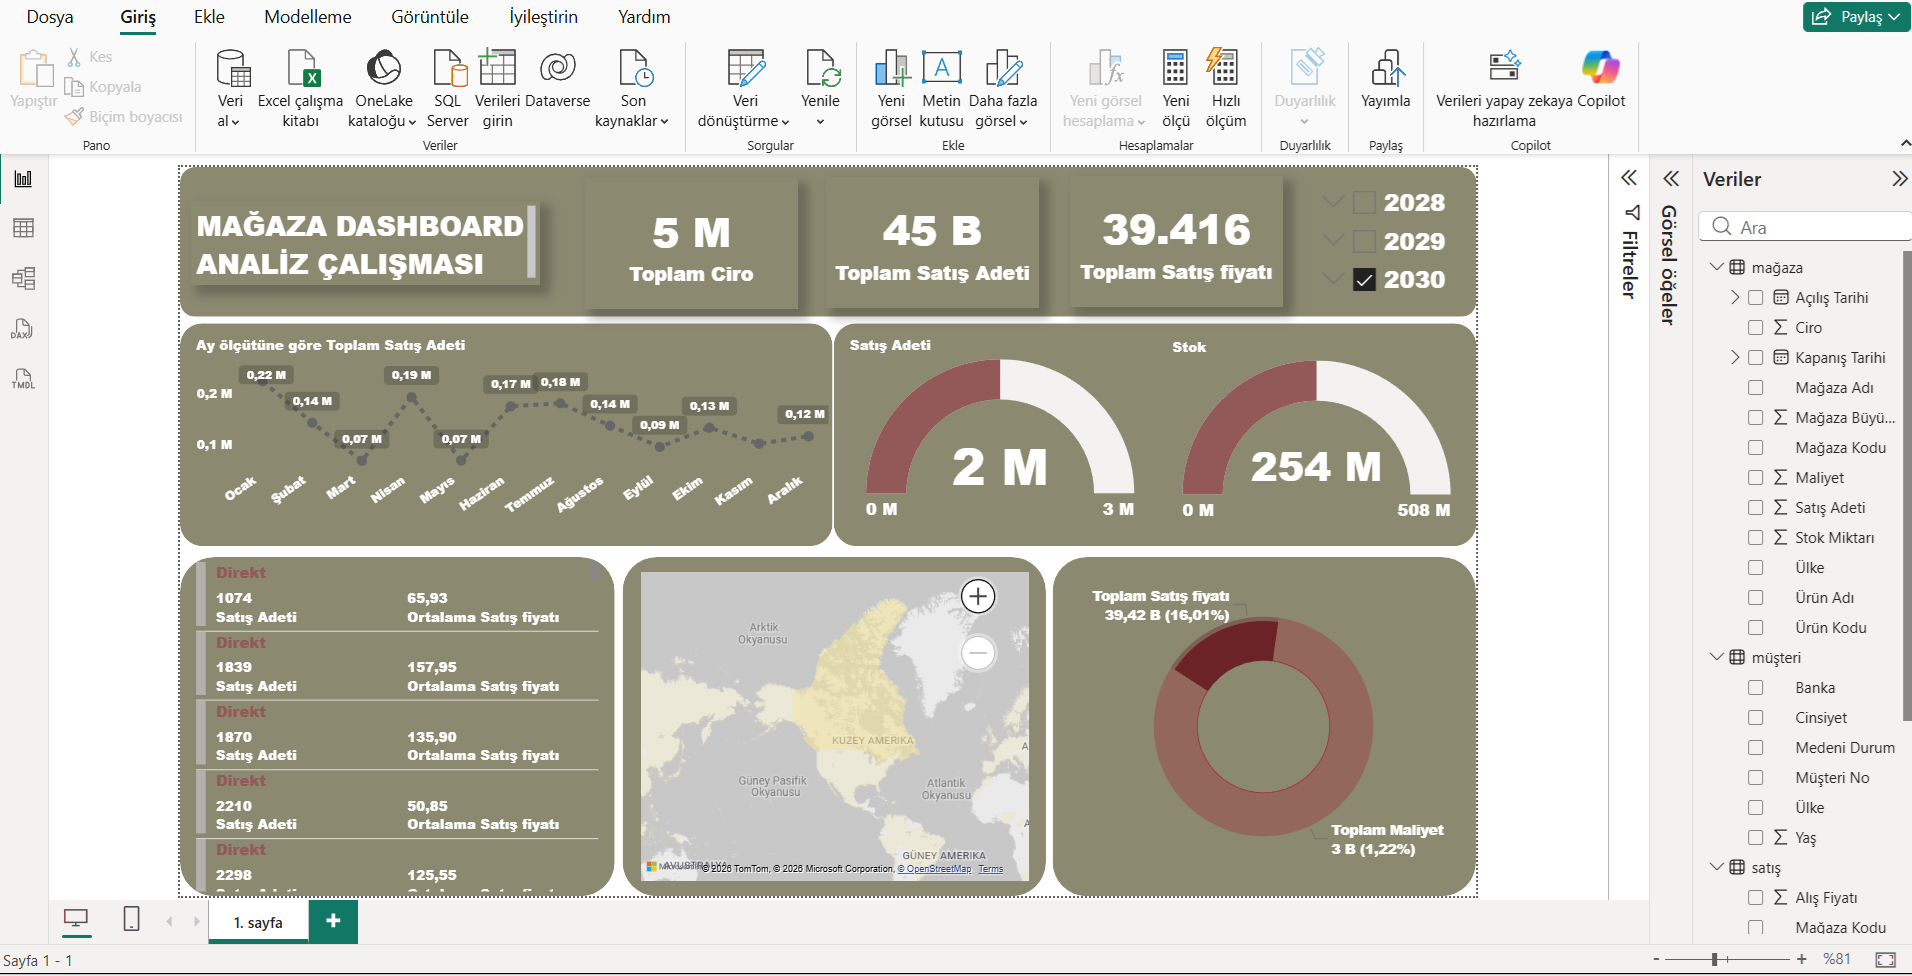

This screenshot's page, from the dashboard's own definition file:
{"tool":"powerbi","page":{"name":"1. sayfa","canvas":[1280,720],"ordinal":0},"visuals":[{"type":"shape","box":[0,0,1280.3,148],"z":0},{"type":"shape","box":[0,154.1,644.4,220.1],"z":1000},{"type":"shape","box":[645.7,154.1,634.7,220.1],"z":2000},{"type":"shape","box":[0,385.2,418.2,335.1],"z":3000},{"type":"shape","box":[862.1,385.2,418.2,335.1],"z":4000},{"type":"shape","box":[11,385.2,418.2,335.1],"z":5000},{"type":"shape","box":[436.6,385.2,418.2,335.1],"z":6000},{"type":"textbox","box":[11,33,344.8,83.2],"z":7000},{"type":"card","fields":{"Values":["Sum(mağaza.Ciro)"]},"box":[399.9,11,210.3,129.6],"z":8000},{"type":"card","fields":{"Values":["Sum(mağaza.Satış Adeti)"]},"box":[638.3,9.8,210.3,129.6],"z":9000},{"type":"card","fields":{"Values":["Sum(satış.Satış fiyatı)"]},"box":[879.2,8.6,210.3,129.6],"z":10000},{"type":"slicer","fields":{"Values":["satış.Sipariş Tarihi.Varyasyon.Tarih Hiyerarşisi.Yıl","satış.Sipariş Tarihi.Varyasyon.Tarih Hiyerarşisi.Çeyrek"]},"box":[1115.2,11,155.3,127.2],"z":11000},{"type":"lineChart","fields":{"Category":["satış.Sipariş Tarihi.Varyasyon.Tarih Hiyerarşisi.Ay"],"Y":["Sum(satış.Satış Adeti)"]},"box":[11,166.3,634.7,193.2],"z":12000},{"type":"gauge","title":"Satış Adeti","fields":{"Y":["Sum(satış.Satış Adeti)"]},"box":[656.7,166.3,306.9,193.2],"z":13000},{"type":"gauge","title":"Stok","fields":{"Y":["Sum(ürünler.Stok)"]},"box":[975.8,167.5,294.7,193.2],"z":14000},{"type":"multiRowCard","fields":{"Values":["satış.Satış Kanalı","satış.Satış Adeti","Avg(satış.Satış fiyatı)"]},"box":[11,385.2,407.2,335.1],"z":15000},{"type":"filledMap","fields":{"Category":["mağaza.Ülke"]},"box":[450,395,392.5,315.5],"z":16000},{"type":"donutChart","fields":{"Y":["Sum(mağaza.Maliyet)","Sum(satış.Satış fiyatı)"]},"box":[870.7,395,399.9,315.5],"z":17000}]}

Visuals, with their boxes on the page's 1280x720 design canvas (x1, y1, x2, y2). These are canvas units, not pixel positions in the 1912x976 screenshot, which may show the page scaled, cropped or inside an application window:
shape: box=[0, 0, 1280, 148]
shape: box=[0, 154, 644, 374]
shape: box=[646, 154, 1280, 374]
shape: box=[0, 385, 418, 720]
shape: box=[862, 385, 1280, 720]
shape: box=[11, 385, 429, 720]
shape: box=[437, 385, 855, 720]
textbox: box=[11, 33, 356, 116]
card - Sum(mağaza.Ciro): box=[400, 11, 610, 141]
card - Sum(mağaza.Satış Adeti): box=[638, 10, 849, 139]
card - Sum(satış.Satış fiyatı): box=[879, 9, 1090, 138]
slicer - satış.Sipariş Tarihi.Varyasyon.Tarih Hiyerarşisi.Yıl x satış.Sipariş Tarihi.Varyasyon.Tarih Hiyerarşisi.Çeyrek: box=[1115, 11, 1270, 138]
lineChart - satış.Sipariş Tarihi.Varyasyon.Tarih Hiyerarşisi.Ay x Sum(satış.Satış Adeti): box=[11, 166, 646, 360]
"Satış Adeti" gauge: box=[657, 166, 964, 360]
"Stok" gauge: box=[976, 168, 1270, 361]
multiRowCard - satış.Satış Kanalı x satış.Satış Adeti: box=[11, 385, 418, 720]
filledMap - mağaza.Ülke: box=[450, 395, 842, 710]
donutChart - Sum(mağaza.Maliyet) x Sum(satış.Satış fiyatı): box=[871, 395, 1271, 710]
